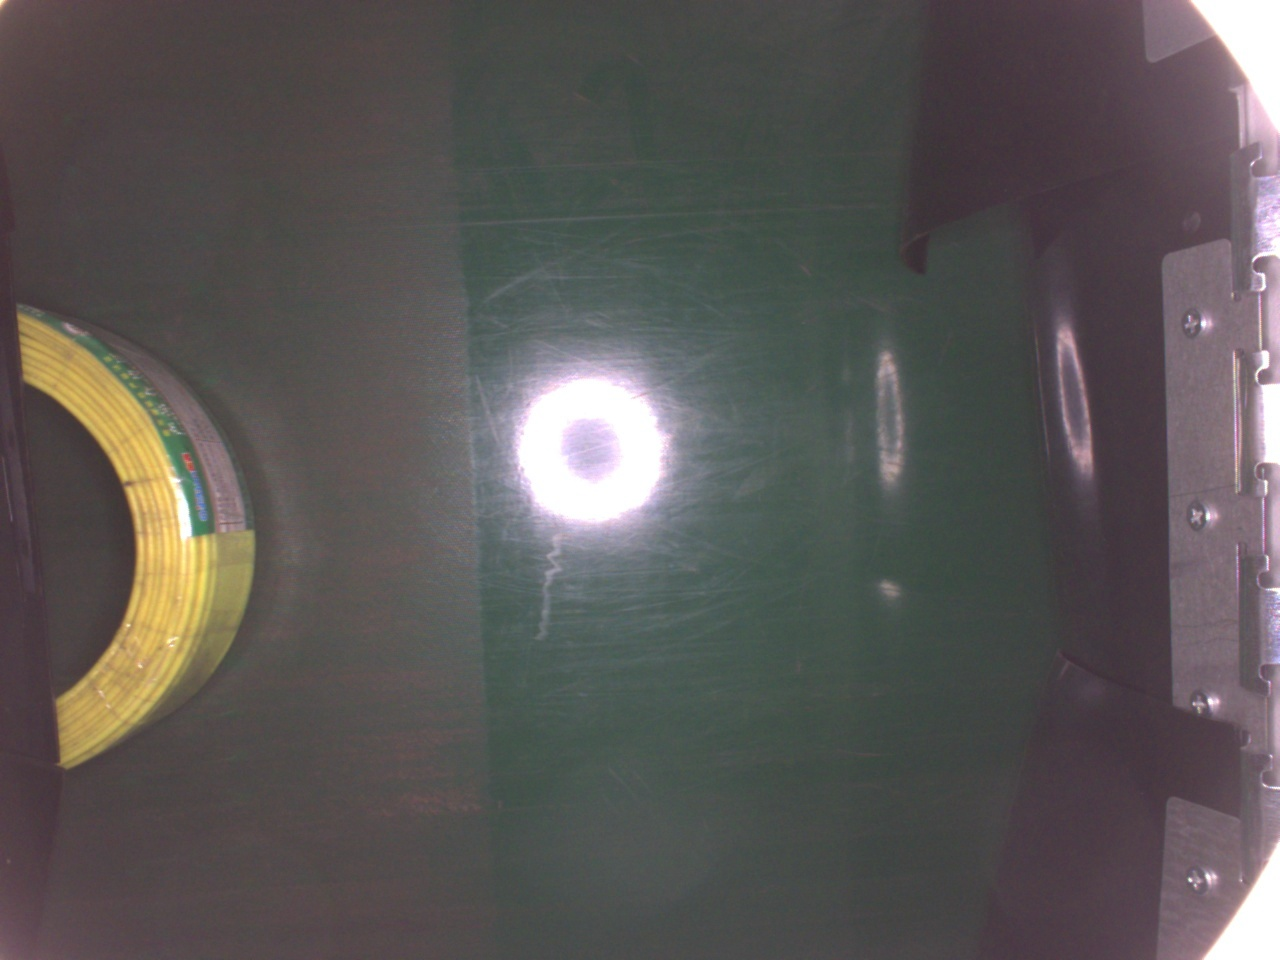yellow: (15, 298, 259, 771)
